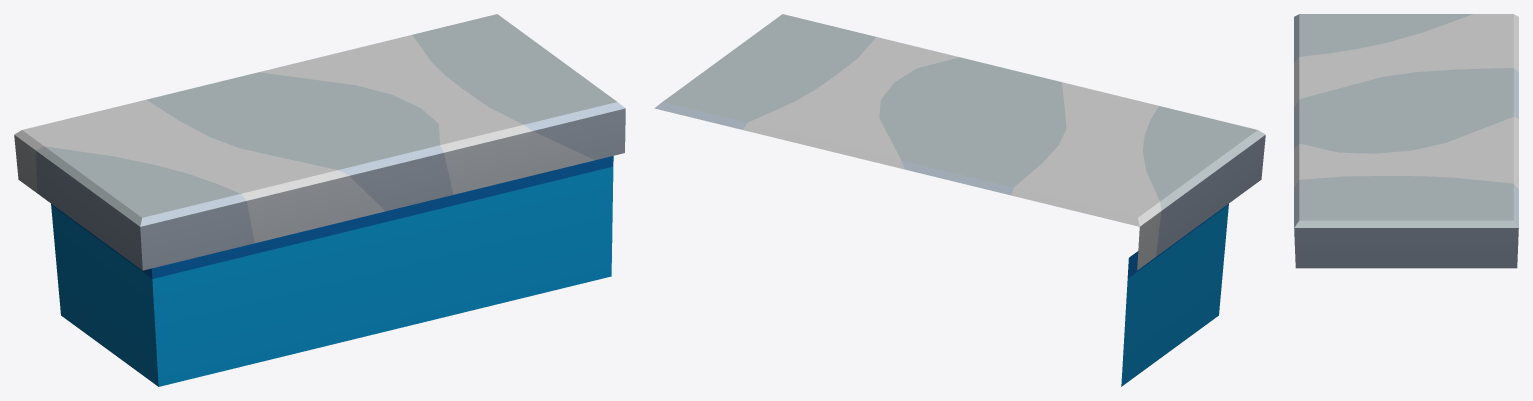
File: Workbench.glb
The picture shows the model from 3 angles, left to right: view 1: azimuth 30°, elevation 25°; view 2: azimuth 150°, elevation 25°; view 3: azimuth 270°, elevation 25°; orthographic projection. The views are drawn at different scales.
Visible parts, largest first — view 1: Workbench; view 2: Workbench; view 3: Workbench.
Boxes of the visible parts, x1=… form: Workbench: x1=14, y1=14, x2=625, y2=386; Workbench: x1=654, y1=14, x2=1265, y2=386; Workbench: x1=1294, y1=14, x2=1518, y2=268.
Size of the model in its own units: 1.39 by 0.5017 by 0.623.
